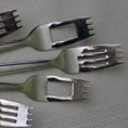Fork: (3, 15, 128, 73), (1, 71, 110, 107)
